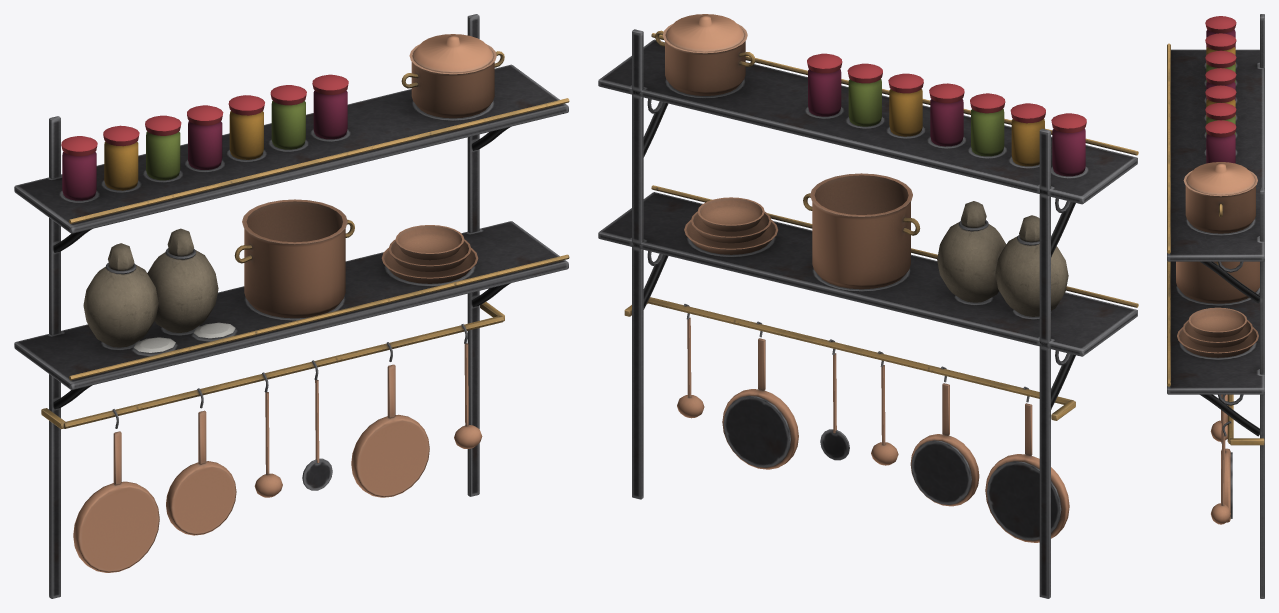
Rendered from KitchenShelf.fbx.
3 views of the same model, side by side, from view 1: azimuth 30°, elevation 25°; view 2: azimuth 150°, elevation 25°; view 3: azimuth 270°, elevation 25° (orthographic). The views are drawn at different scales.
Parts seen in each view (by area): view 1: KitchenShelf; view 2: KitchenShelf; view 3: KitchenShelf.
Part boxes in pixels (x1,y1,x2,y2): KitchenShelf: [14, 14, 569, 598]; KitchenShelf: [598, 14, 1138, 598]; KitchenShelf: [1167, 14, 1264, 598].
Size of the model in its own units: 500 by 467 by 100.
